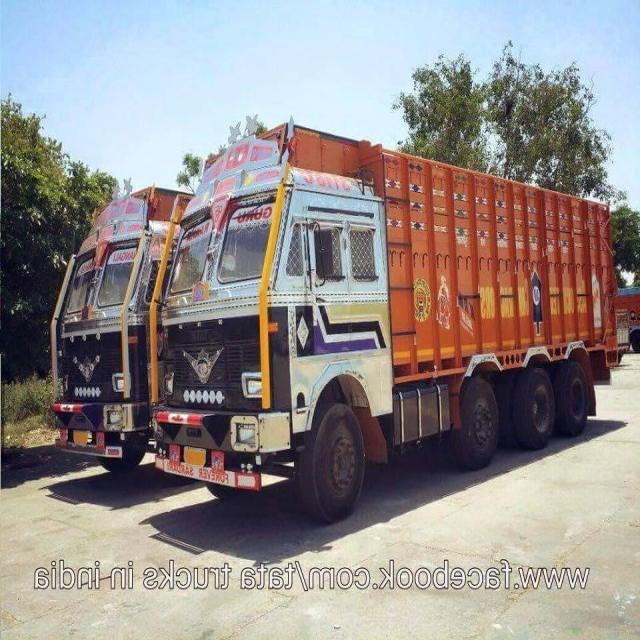truck: (151, 107, 622, 523), (42, 166, 156, 484)
